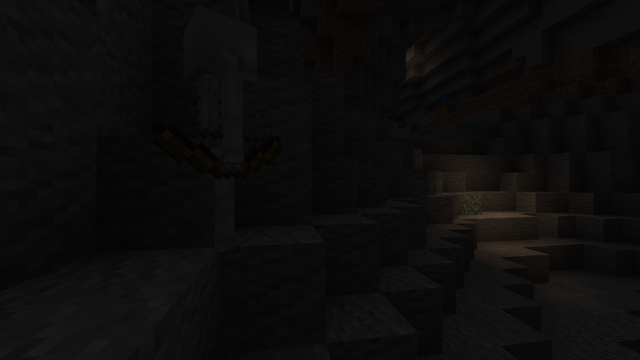squelettes: (171, 6, 254, 258)
